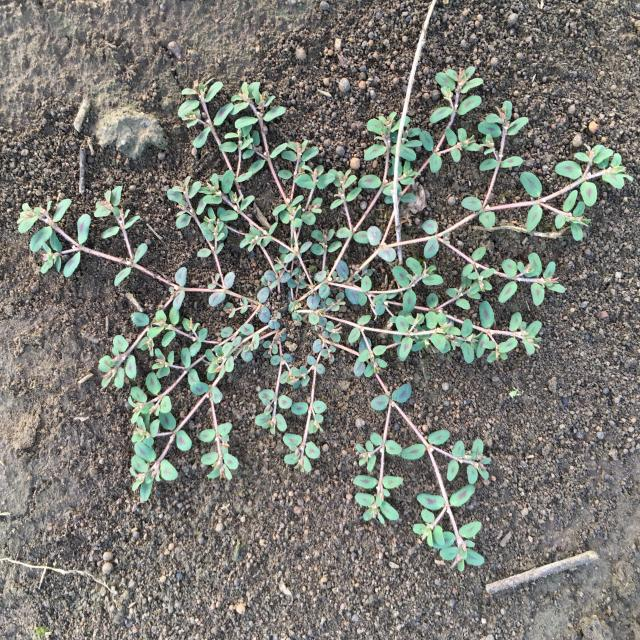SpottedSpurge: (17, 66, 633, 572)
